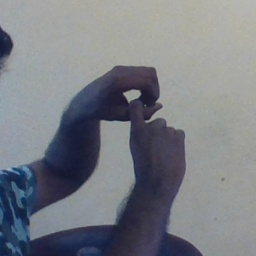Q: (80, 55, 193, 165)
